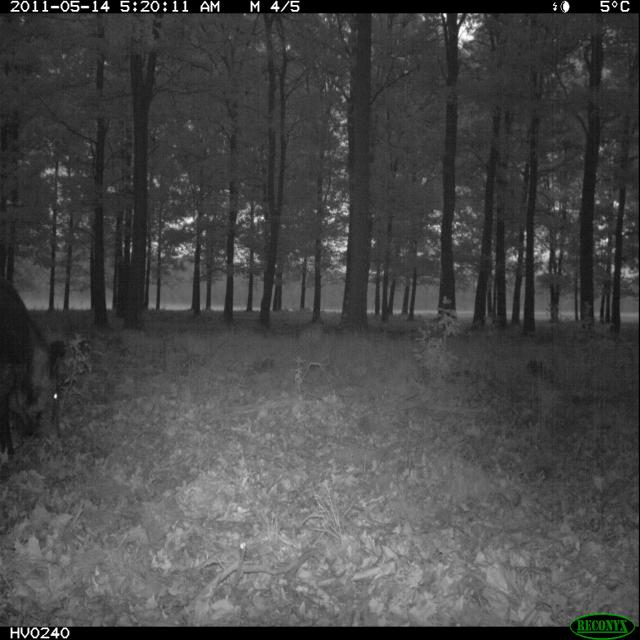boar: (0, 284, 104, 457)
